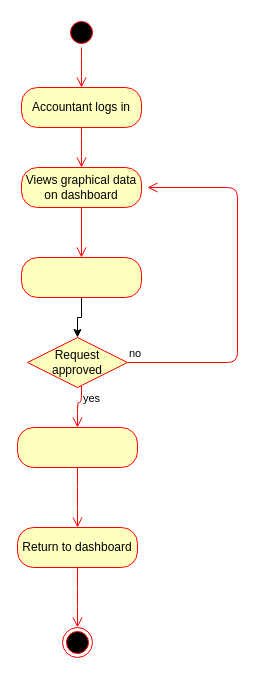
The diagram is 265 pixels wide and 675 high, and some of its shapes have lost their labels. Each missing label, with the centre of its shape:
Open the data: the point at 77,447
Selects one month: the point at 81,277
